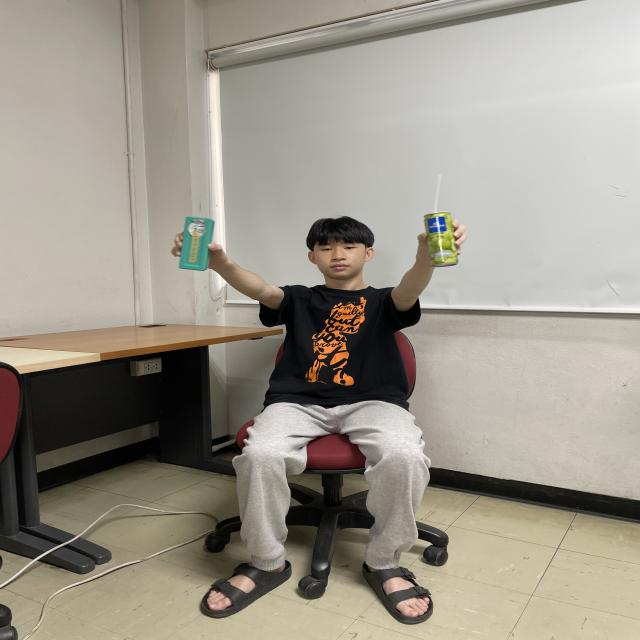can: (423, 210, 459, 268)
